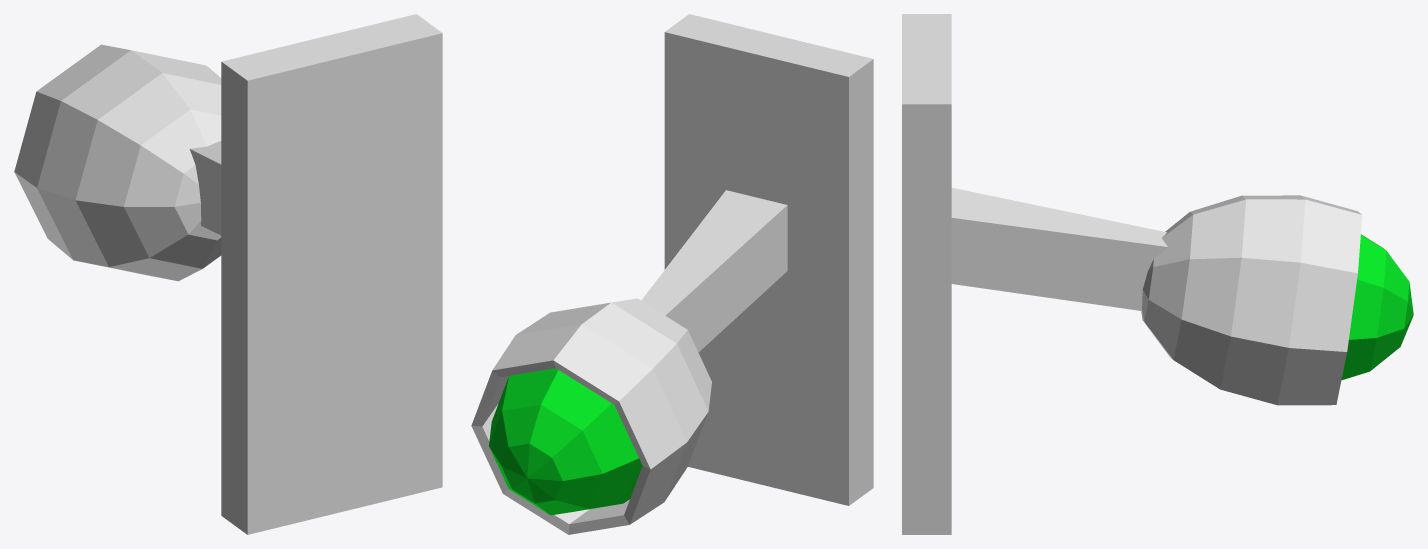
Rendered from lamp.fbx.
3 renders of one model, left to right at view 1: azimuth 30°, elevation 25°; view 2: azimuth 150°, elevation 25°; view 3: azimuth 270°, elevation 25°, orthographic. The views are drawn at different scales.
Parts seen in each view (by area): view 1: Cube.007, Sphere; view 2: Cube.007, Sphere; view 3: Cube.007, Sphere.
Part boxes in pixels (x1,y1,x2,y2): Cube.007: (189, 14, 442, 534); Sphere: (14, 44, 221, 281); Cube.007: (641, 14, 873, 505); Sphere: (471, 298, 711, 534); Cube.007: (902, 14, 1167, 534); Sphere: (1141, 195, 1413, 405).
Size of the model in its own units: 22.77 by 48.09 by 51.78.
